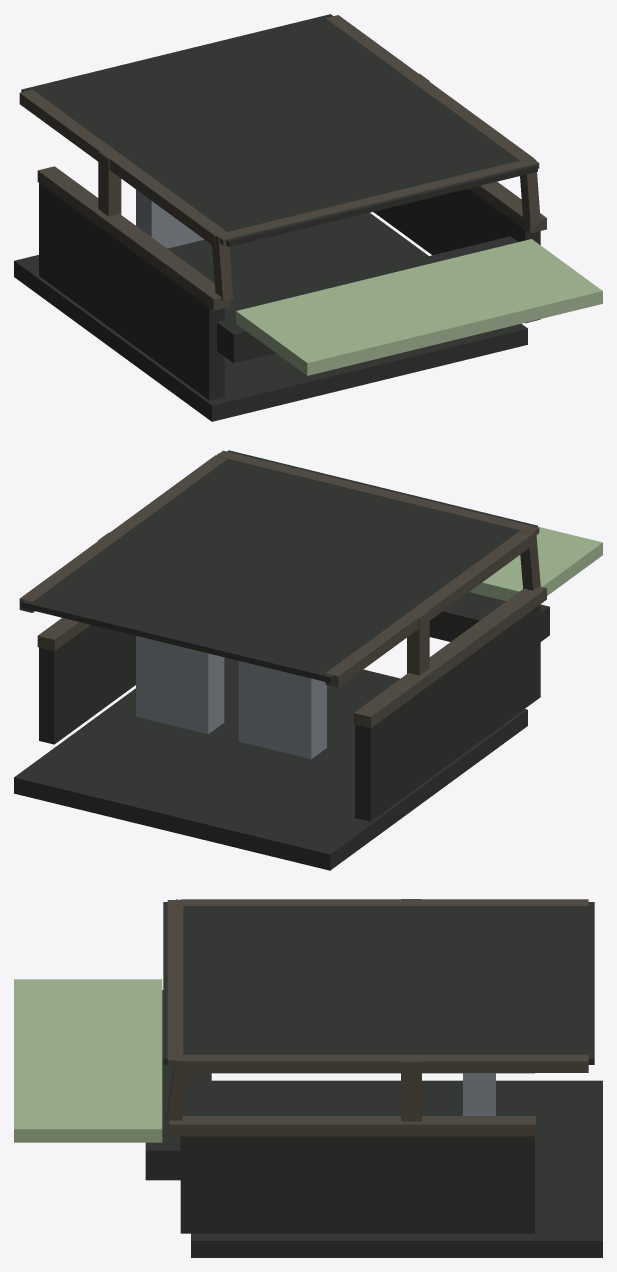
The model's file is tuoye.glb.
3 views of the same model, one above another, from view 1: azimuth 30°, elevation 25°; view 2: azimuth 150°, elevation 25°; view 3: azimuth 270°, elevation 25° (orthographic). The views are drawn at different scales.
Parts seen in each view (by area): view 1: headliner, hood, floor, right_wall_lower, left_wall_lower, door_sill_R, roof_rail_R, dashboard, windshield_header, roof_rail_L, seat_driver_back, door_sill_L (+3 smaller); view 2: headliner, floor, right_wall_lower, left_wall_lower, seat_driver_back, seat_passenger_back, door_sill_R, roof_rail_R, hood, roof_rail_L, windshield_header, dashboard (+3 smaller); view 3: headliner, left_wall_lower, floor, hood, door_sill_L, roof_rail_L, dashboard, roof_rail_R, windshield_header, seat_passenger_back, B_pillar_L, A_pillar_L.
Part boxes in pixels (bbox=[...]): headliner: bbox=[21, 14, 537, 246]; hood: bbox=[236, 239, 602, 375]; floor: bbox=[14, 212, 527, 421]; right_wall_lower: bbox=[39, 183, 224, 400]; left_wall_lower: bbox=[373, 188, 540, 323]; door_sill_R: bbox=[37, 166, 230, 310]; roof_rail_R: bbox=[19, 89, 226, 247]; dashboard: bbox=[217, 236, 517, 363]; windshield_header: bbox=[216, 157, 539, 245]; roof_rail_L: bbox=[325, 15, 534, 160]; seat_driver_back: bbox=[136, 189, 203, 248]; door_sill_L: bbox=[469, 181, 546, 233]; headliner: bbox=[21, 450, 537, 683]; floor: bbox=[14, 657, 527, 870]; right_wall_lower: bbox=[355, 604, 540, 821]; left_wall_lower: bbox=[39, 625, 135, 744]; seat_driver_back: bbox=[238, 661, 326, 759]; seat_passenger_back: bbox=[136, 636, 224, 734]; door_sill_R: bbox=[353, 586, 546, 728]; roof_rail_R: bbox=[325, 530, 534, 687]; hood: bbox=[469, 526, 602, 600]; roof_rail_L: bbox=[19, 455, 226, 612]; windshield_header: bbox=[216, 450, 539, 534]; dashboard: bbox=[429, 592, 549, 641]; headliner: bbox=[163, 902, 594, 1064]; left_wall_lower: bbox=[180, 1136, 534, 1233]; floor: bbox=[191, 1080, 602, 1257]; hood: bbox=[14, 979, 162, 1142]; door_sill_L: bbox=[169, 1116, 535, 1136]; roof_rail_L: bbox=[180, 1054, 588, 1072]; dashboard: bbox=[145, 990, 211, 1180]; roof_rail_R: bbox=[180, 899, 588, 905]; windshield_header: bbox=[167, 900, 183, 1065]; seat_passenger_back: bbox=[463, 1073, 495, 1115]; B_pillar_L: bbox=[401, 1061, 421, 1121]; A_pillar_L: bbox=[166, 1055, 189, 1123].
Size of the model in its own units: 1.94 by 1.17 by 2.86.
